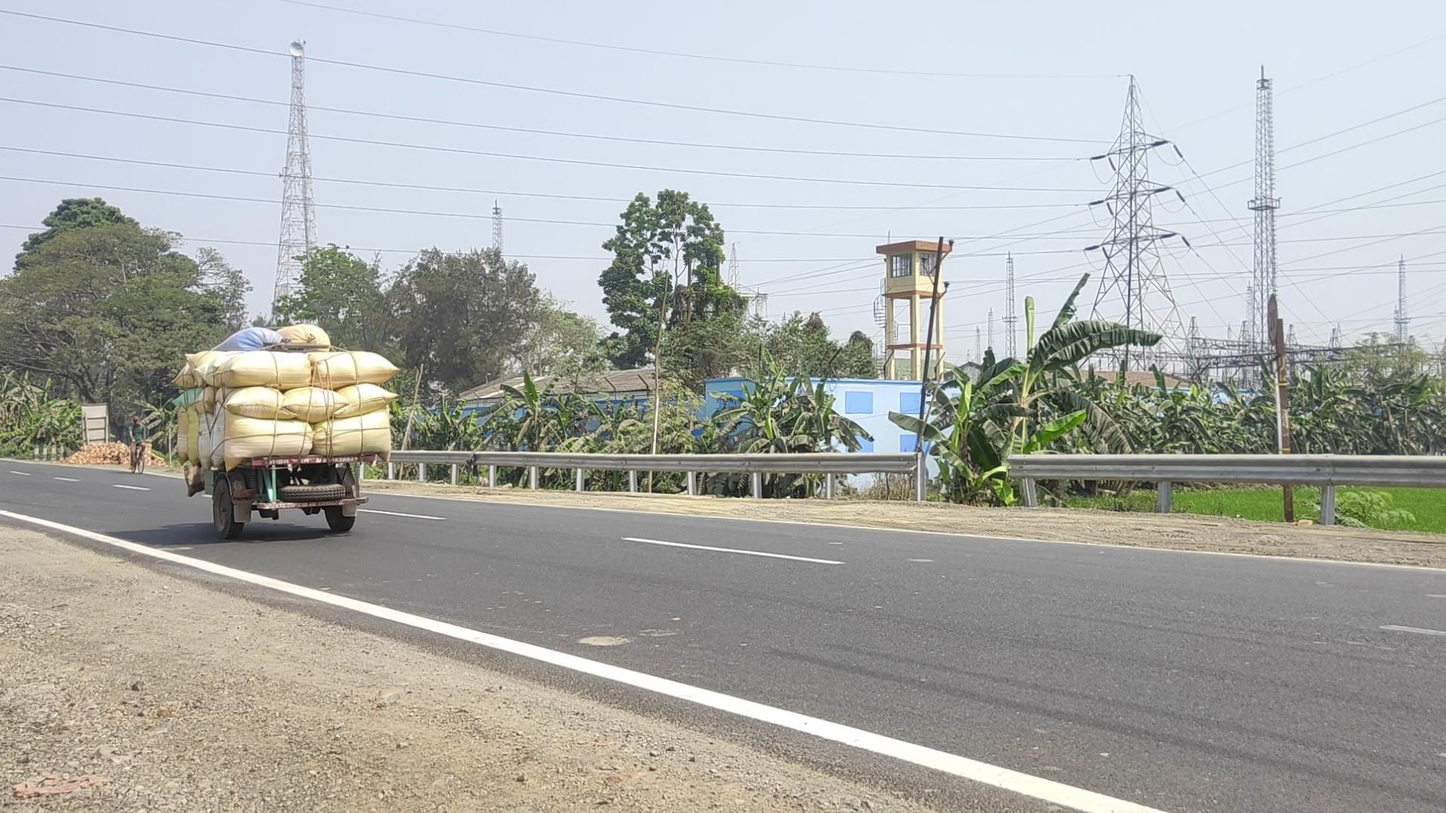bike: (130, 416, 146, 474)
